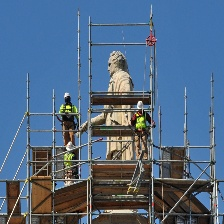helmet: (135, 99, 144, 111), (63, 91, 72, 99)
person: (130, 97, 156, 161), (58, 92, 81, 145), (61, 141, 80, 189)
vest: (63, 151, 76, 169), (136, 114, 149, 132), (59, 102, 77, 114)
